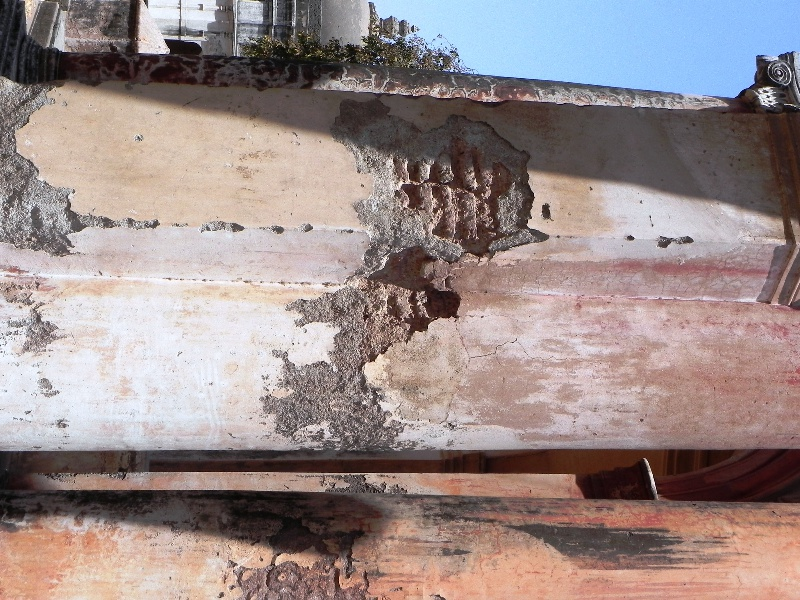Exposed Bricks: (396, 144, 506, 243)
Spalling: (282, 245, 467, 450), (1, 81, 122, 265)
